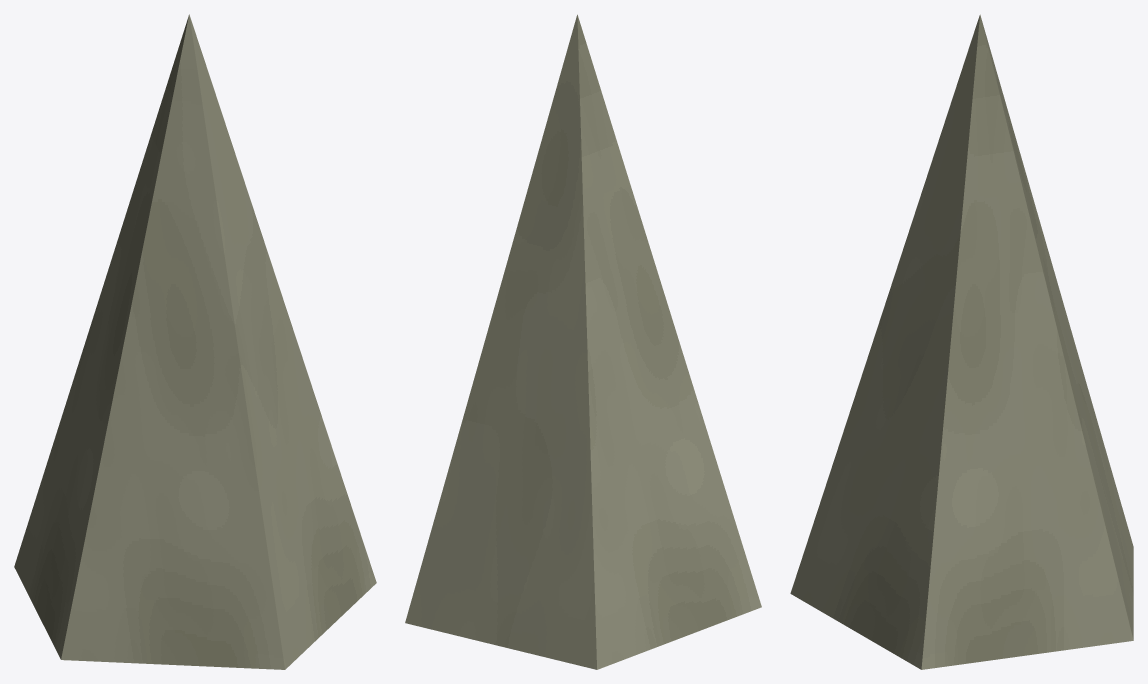
Rendered from pedra-agulha-v02.gltf.
The picture shows the model from 3 angles, left to right: view 1: azimuth 30°, elevation 25°; view 2: azimuth 150°, elevation 25°; view 3: azimuth 270°, elevation 25°; orthographic projection.
Visible parts, largest first — view 1: forma; view 2: forma; view 3: forma.
Boxes of the visible parts, x1=… form: forma: x1=14, y1=14, x2=376, y2=669; forma: x1=405, y1=14, x2=761, y2=669; forma: x1=790, y1=14, x2=1133, y2=669.
Bounding box in the file's own units: 0.8179 × 1.45 × 0.7779.
1 material, 1 textured.
